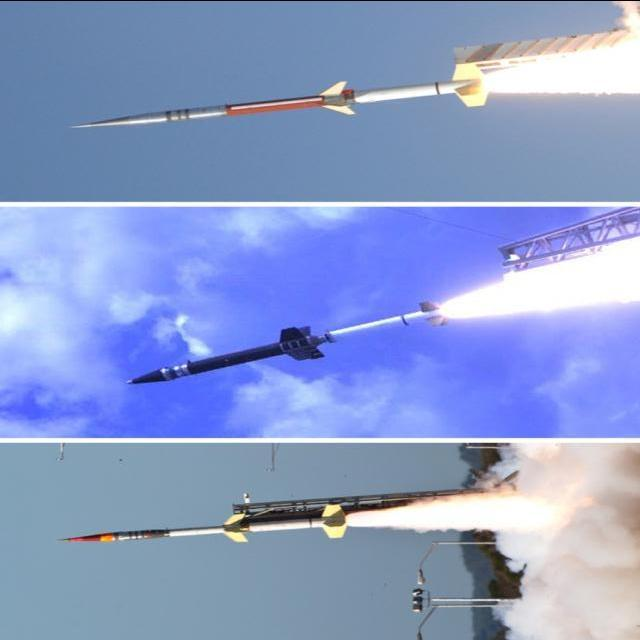Missile: (65, 62, 492, 136), (127, 318, 333, 398), (52, 498, 359, 548), (348, 60, 496, 116), (322, 294, 450, 352)
